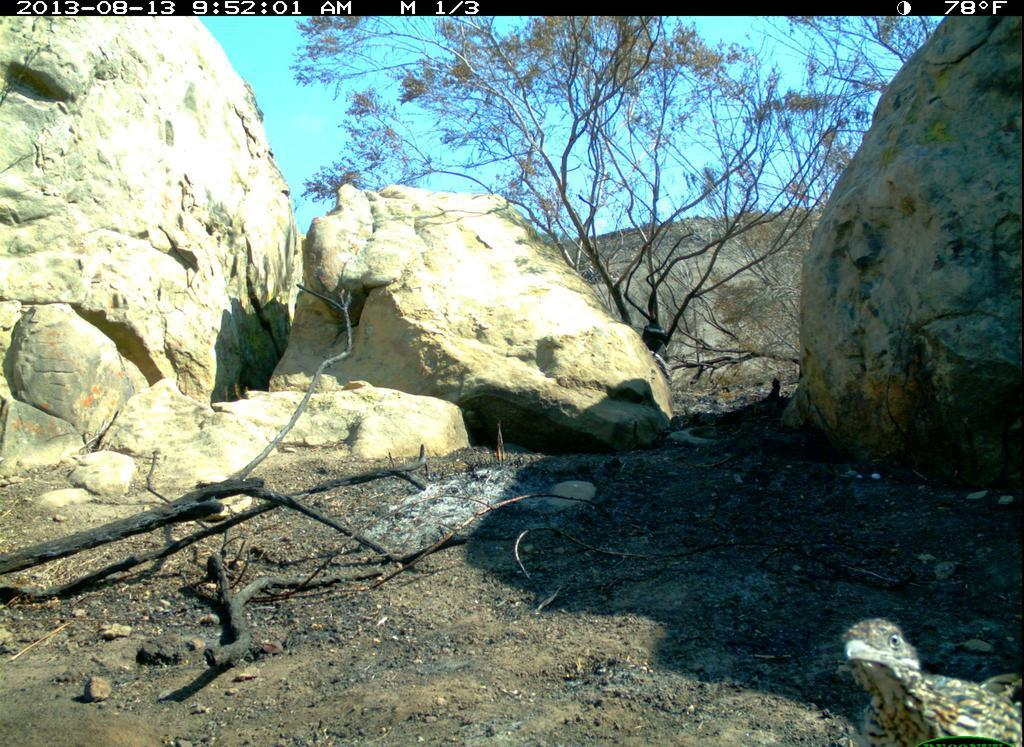bird: (815, 580, 1010, 745)
